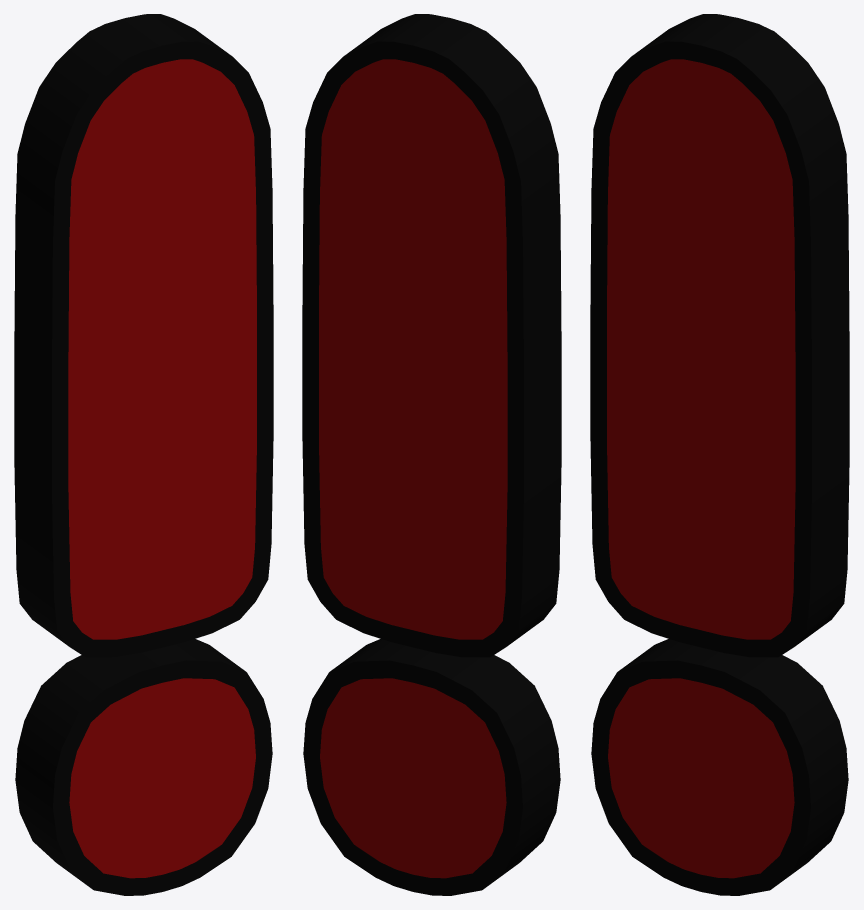
The model's file is battle_icon.glb.
The picture shows the model from 3 angles, left to right: view 1: azimuth 30°, elevation 25°; view 2: azimuth 150°, elevation 25°; view 3: azimuth 330°, elevation 25°; orthographic projection.
Parts seen in each view (by area): view 1: Plane; view 2: Plane; view 3: Plane.
Boxes of the visible parts, bbox=[...] form: Plane: bbox=[14, 14, 273, 895]; Plane: bbox=[302, 14, 561, 895]; Plane: bbox=[590, 14, 849, 895].
Bounding box in the file's own units: 1.03 × 3.75 × 0.3015.
